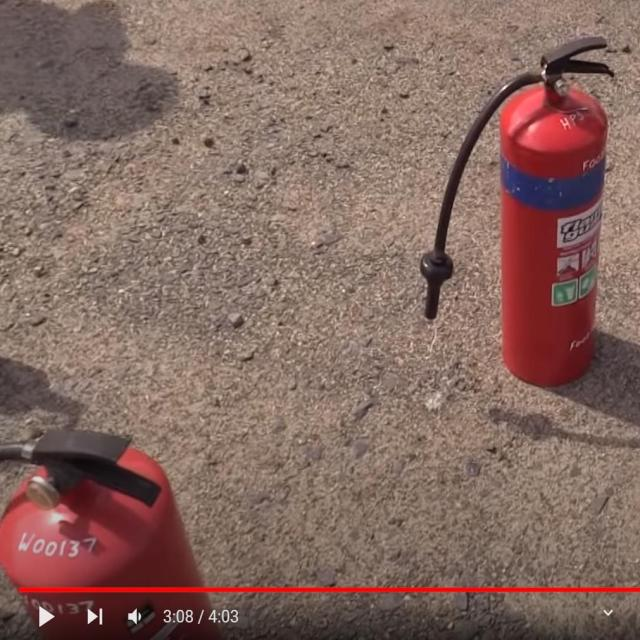fire_extinguisher: (417, 32, 618, 393), (0, 413, 235, 639)
